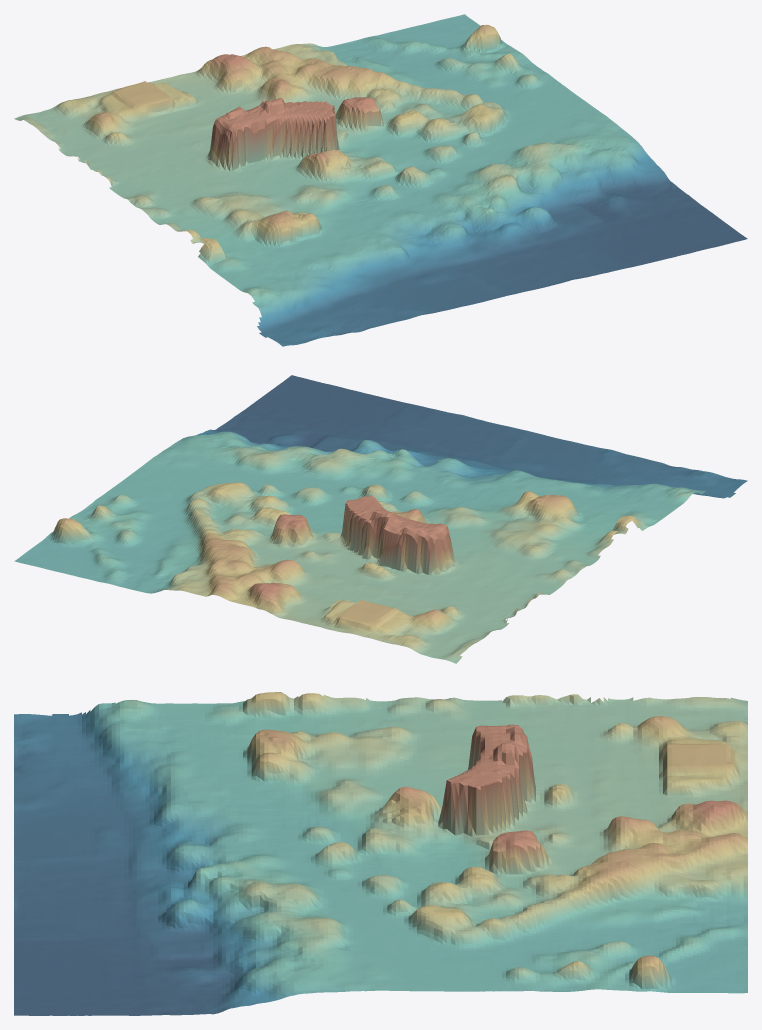
Rendered from oma084_disp_photo.glb.
3 renders of one model, top to bottom at view 1: azimuth 30°, elevation 25°; view 2: azimuth 150°, elevation 25°; view 3: azimuth 270°, elevation 25°, orthographic. The views are drawn at different scales.
Parts seen in each view (by area): view 1: world; view 2: world; view 3: world.
Boxes of the visible parts, <box> form: world: <box>14,14,747,346</box>; world: <box>14,375,747,663</box>; world: <box>14,692,747,1015</box>.
Bounding box in the file's own units: 330 × 46.72 × 346.
